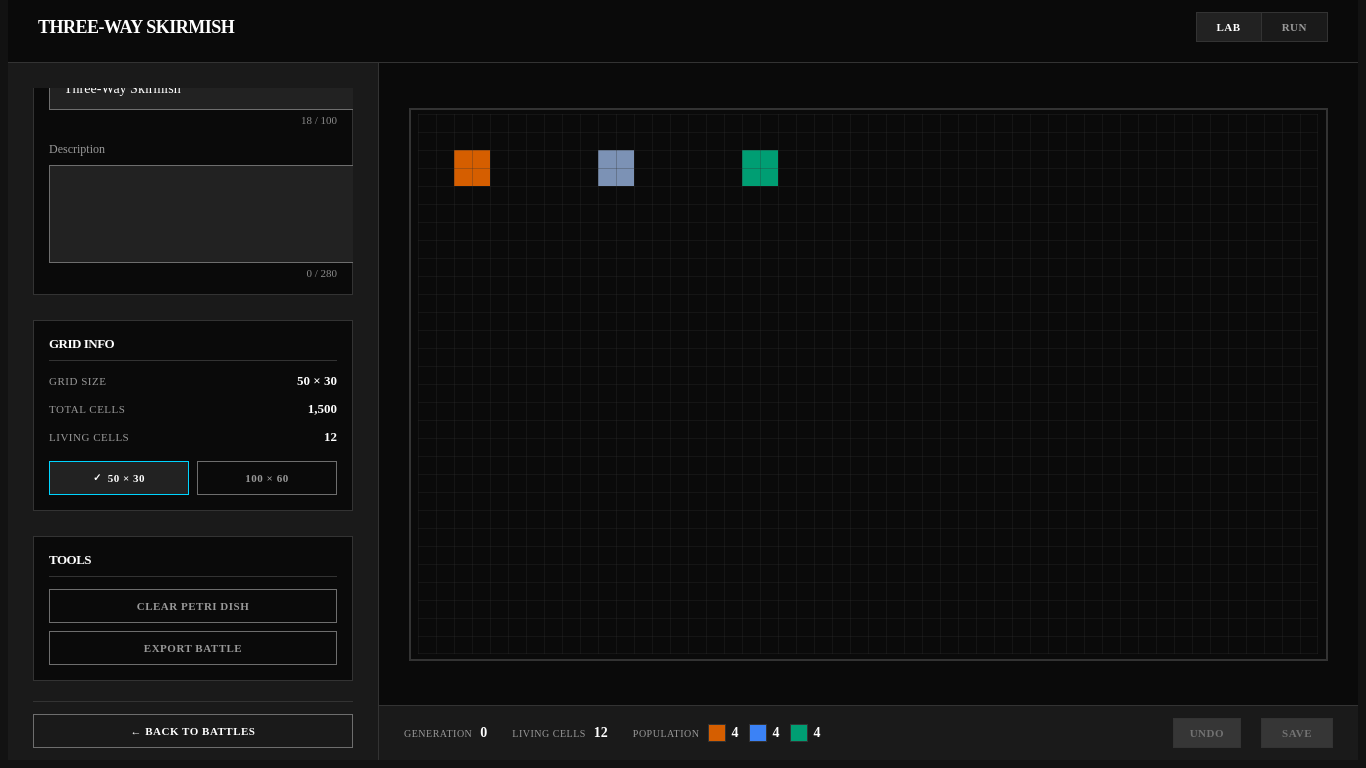
Test case: BattlePage — Export Battle (Story 5.6) › Escape closes the dialog, exports nothing, and restores focus to EXPORT BATTLE (AC9)
(page scrolled)
Expected: the heading "Three-Way Skirmish" is shown, x1=38 y1=16 x2=234 y2=38
Click the button "Export Battle".
click(193, 648)  # box x1=49 y1=630 x2=337 y2=664
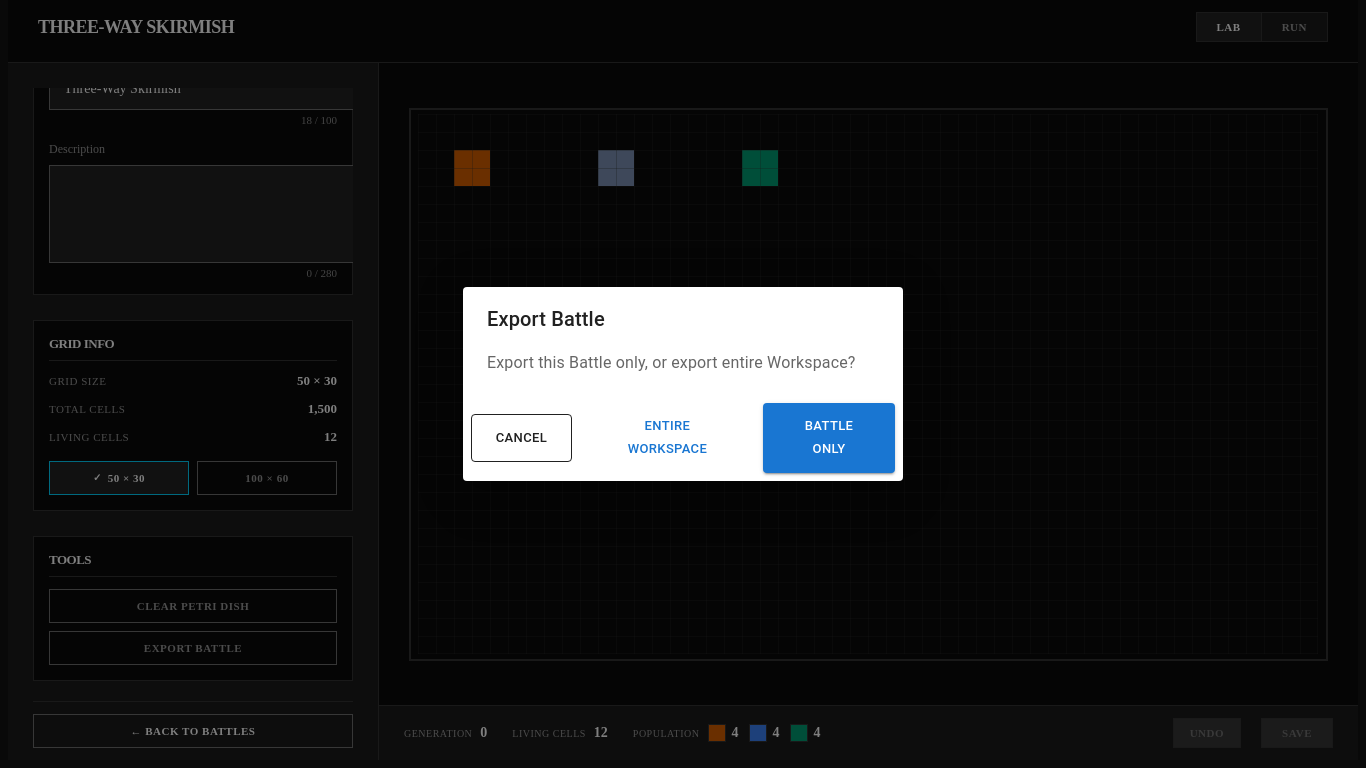
Press Escape
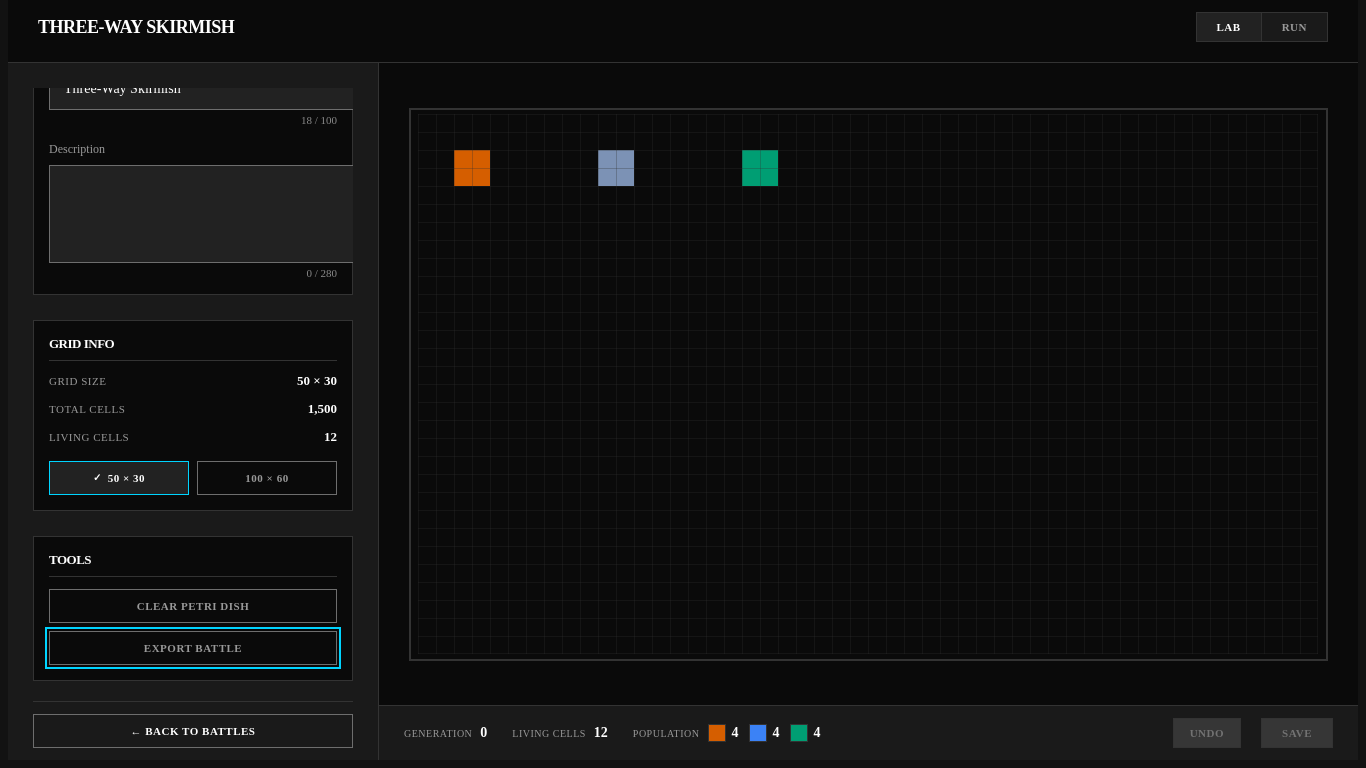
Now the dialog is gone
